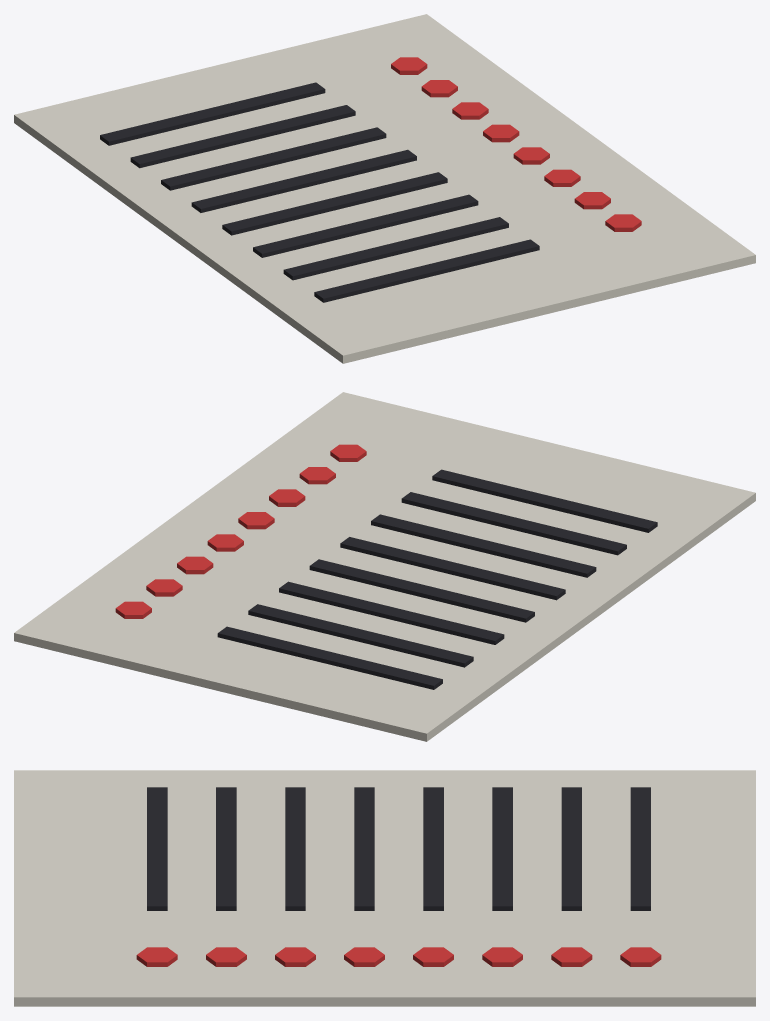
Rendered from fair_client_list.glb.
The picture shows the model from 3 angles, top to bottom: view 1: azimuth 30°, elevation 25°; view 2: azimuth 150°, elevation 25°; view 3: azimuth 270°, elevation 25°; orthographic projection. The views are drawn at different scales.
Visible parts, largest first — view 1: paper_list_paper, lines_list_ink, teddies_fair_red; view 2: paper_list_paper, lines_list_ink, teddies_fair_red; view 3: paper_list_paper, lines_list_ink, teddies_fair_red.
Part boxes in pixels (x1=…): paper_list_paper: x1=14, y1=14, x2=755, y2=363; lines_list_ink: x1=100, y1=82, x2=539, y2=302; teddies_fair_red: x1=391, y1=57, x2=641, y2=231; paper_list_paper: x1=14, y1=392, x2=755, y2=741; lines_list_ink: x1=217, y1=469, x2=657, y2=689; teddies_fair_red: x1=115, y1=444, x2=366, y2=618; paper_list_paper: x1=14, y1=770, x2=755, y2=1006; lines_list_ink: x1=147, y1=787, x2=650, y2=910; teddies_fair_red: x1=136, y1=947, x2=661, y2=966.
Size of the model in its own units: 0.21 by 0.006 by 0.29.
